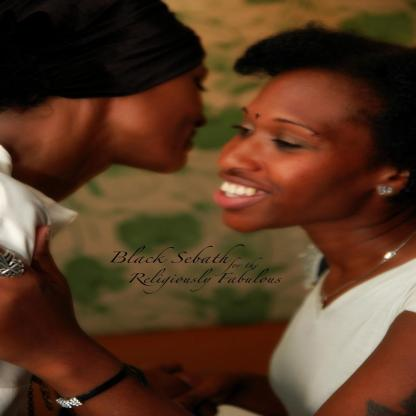face: (219, 72, 376, 230), (124, 43, 211, 172)
